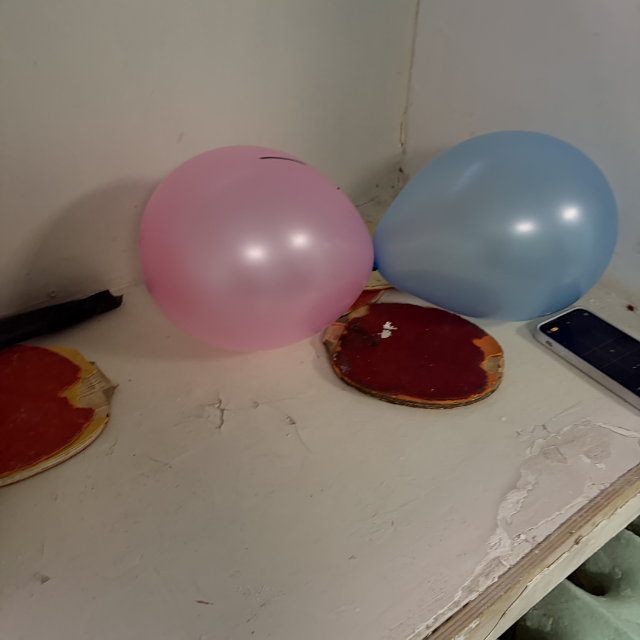balloon: (138, 144, 374, 353), (371, 130, 619, 321)
